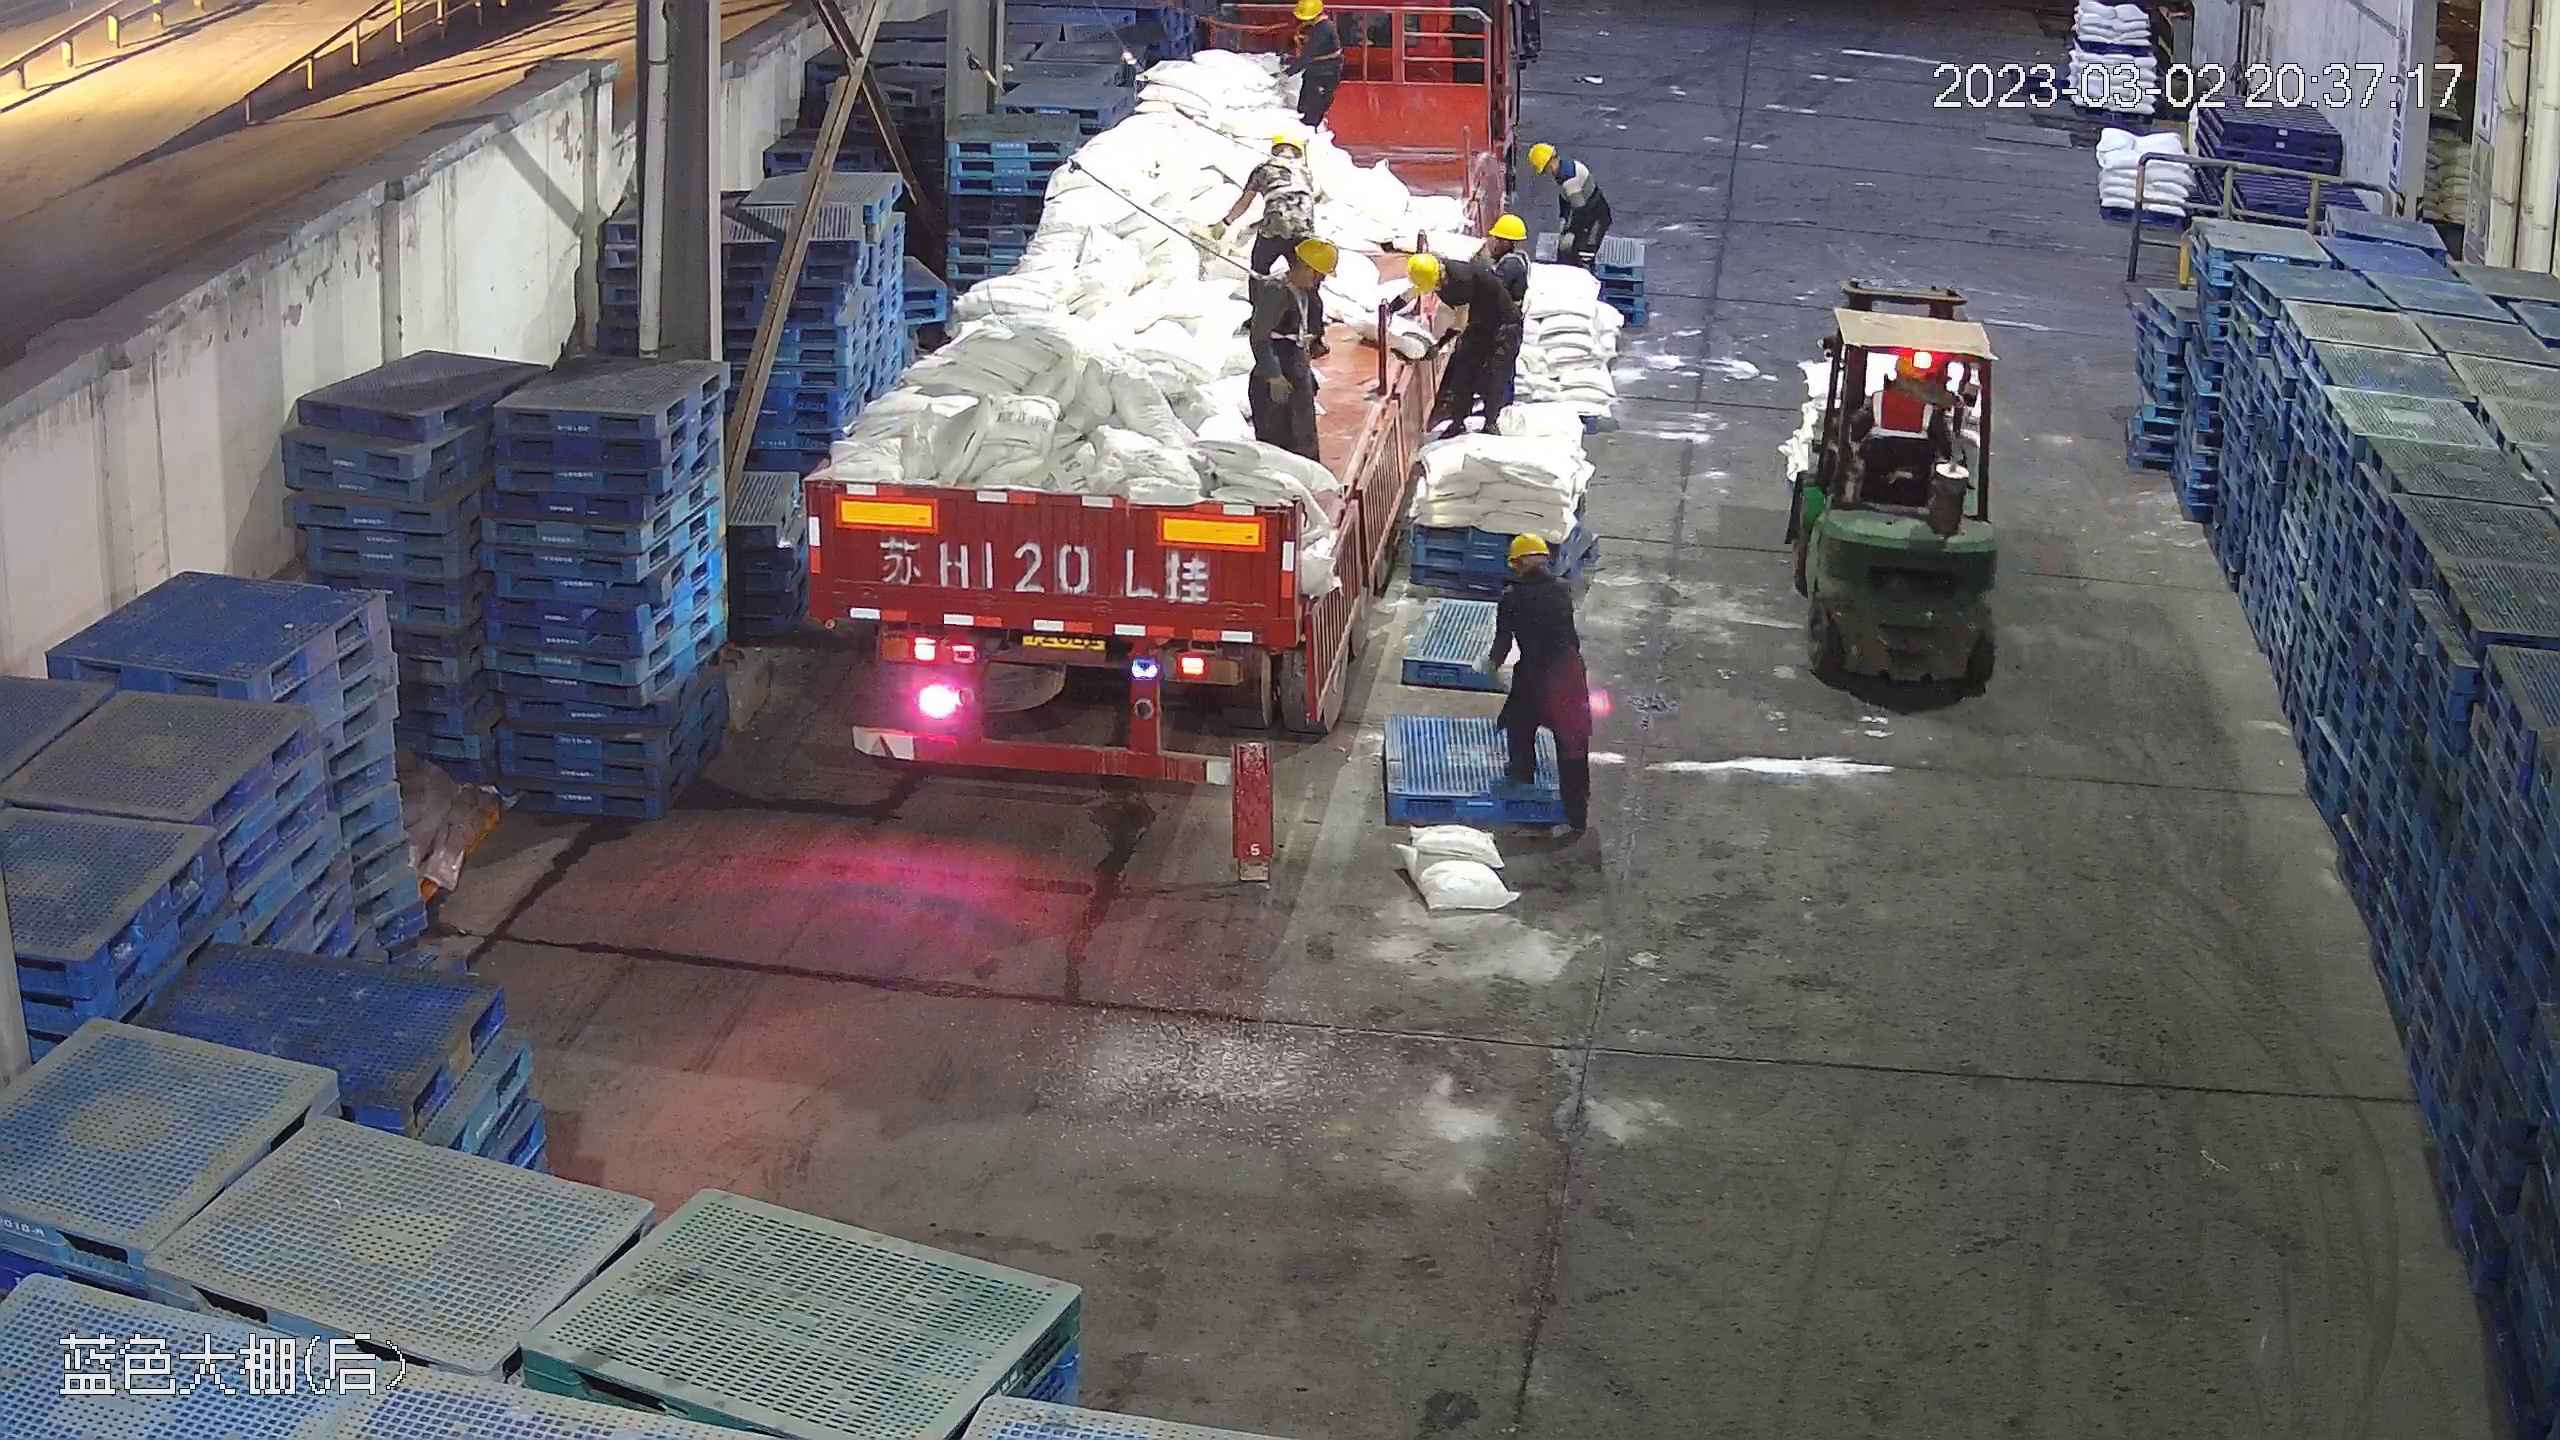belt: (1256, 277, 1317, 343), (1264, 153, 1315, 205), (1503, 254, 1535, 314), (1290, 25, 1344, 60)
head: (1499, 529, 1577, 630), (1408, 244, 1506, 318), (1256, 242, 1333, 326), (1458, 217, 1530, 296), (1252, 131, 1316, 187), (1526, 144, 1590, 195), (1290, 1, 1345, 44)
helmet: (1293, 234, 1338, 276), (1505, 528, 1552, 563), (1405, 254, 1442, 298), (1264, 130, 1313, 157), (1486, 213, 1529, 241), (1292, 1, 1329, 26), (1530, 141, 1558, 171)
people: (1491, 527, 1595, 836), (1405, 239, 1524, 443), (1244, 237, 1337, 458), (1229, 130, 1324, 296), (1514, 137, 1605, 263), (1280, 1, 1352, 148)
truck: (800, 9, 1519, 775)
